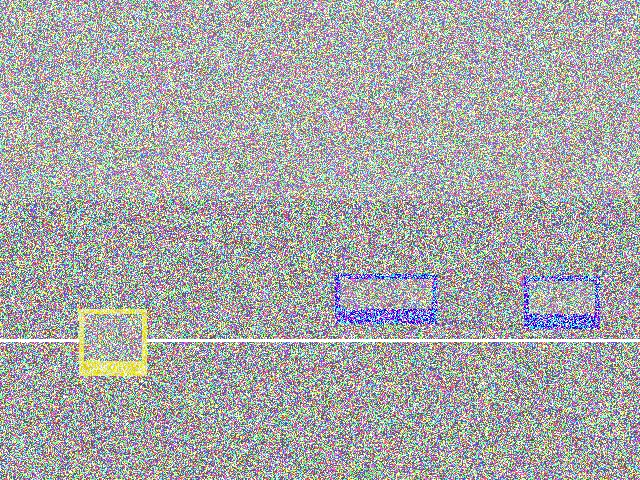bus: (42, 209, 209, 285)
